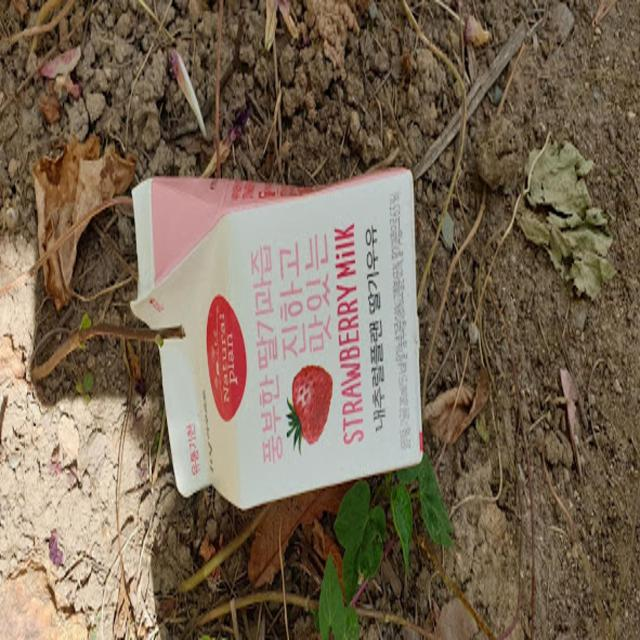paperpack: (130, 167, 424, 508)
